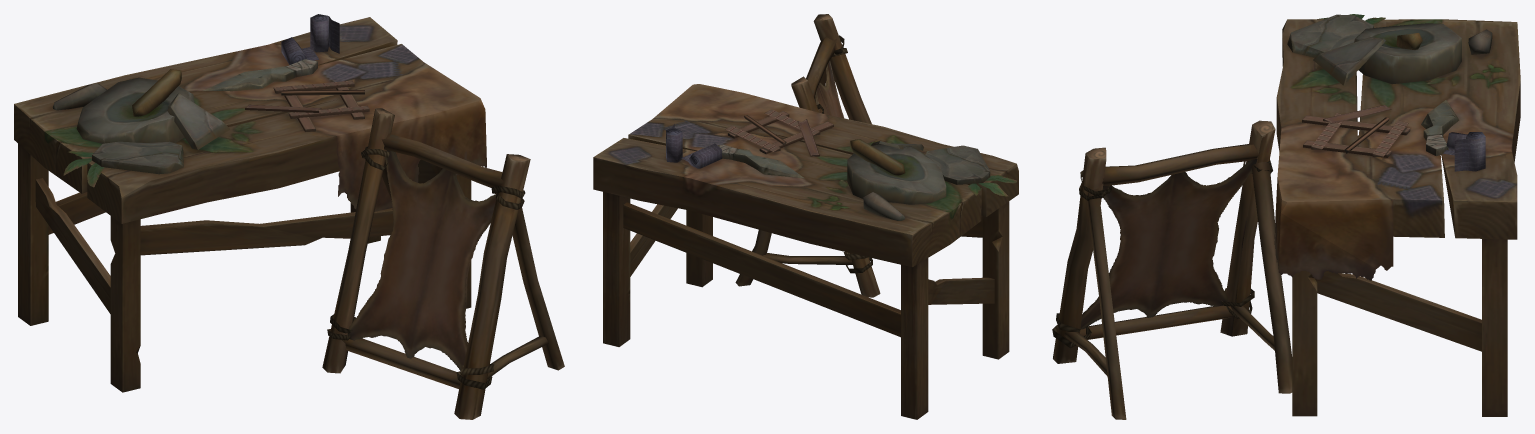
File: Workbench.FBX
The picture shows the model from 3 angles, left to right: view 1: azimuth 30°, elevation 25°; view 2: azimuth 150°, elevation 25°; view 3: azimuth 270°, elevation 25°; orthographic projection. The views are drawn at different scales.
Parts seen in each view (by area): view 1: Workbench; view 2: Workbench; view 3: Workbench.
Boxes of the visible parts, x1,y1,x2,y2 form: Workbench: (14,14,564,419); Workbench: (593,14,1018,419); Workbench: (1052,14,1520,419).
Size of the model in its own units: 1.93 by 1.18 by 1.92.
